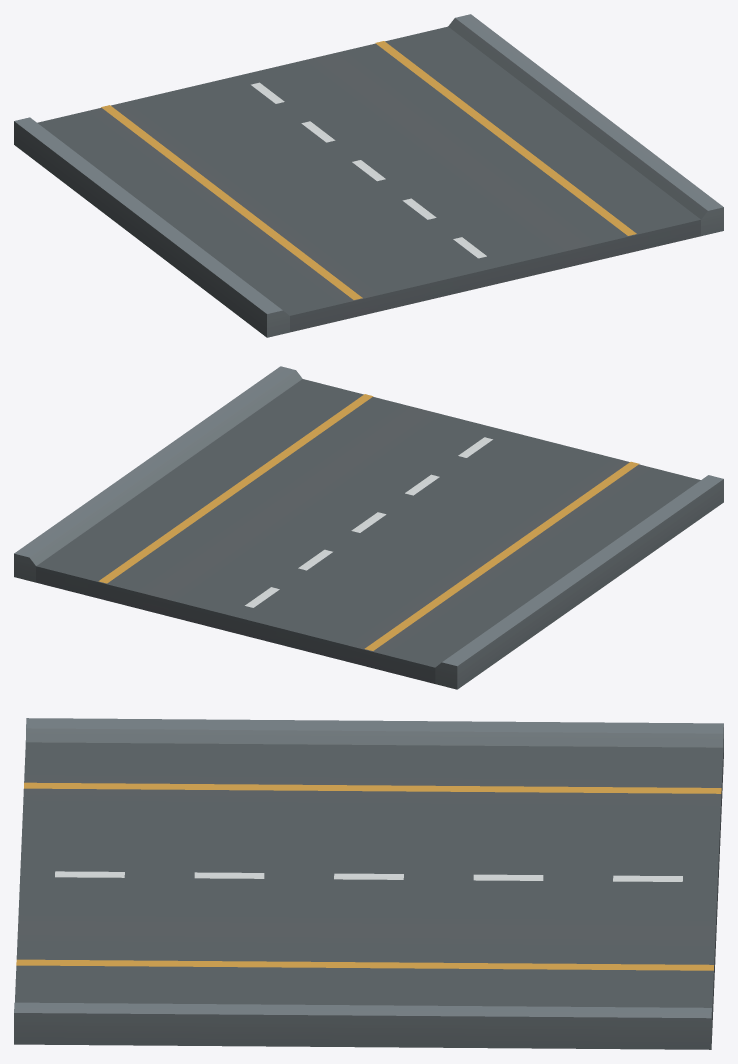
The model's file is road_lev3.glb.
The picture shows the model from 3 angles, top to bottom: view 1: azimuth 30°, elevation 25°; view 2: azimuth 150°, elevation 25°; view 3: azimuth 270°, elevation 25°; orthographic projection. The views are drawn at different scales.
Visible parts, largest first — view 1: road_straight; view 2: road_straight; view 3: road_straight.
Part boxes in pixels (left/top/right/bottom): road_straight: left=14, top=14, right=723, bottom=337; road_straight: left=14, top=366, right=723, bottom=689; road_straight: left=14, top=718, right=723, bottom=1049.
Bounding box in the file's own units: 18.95 × 0.9321 × 18.95.
Materials: 1 (1 with a texture image).
